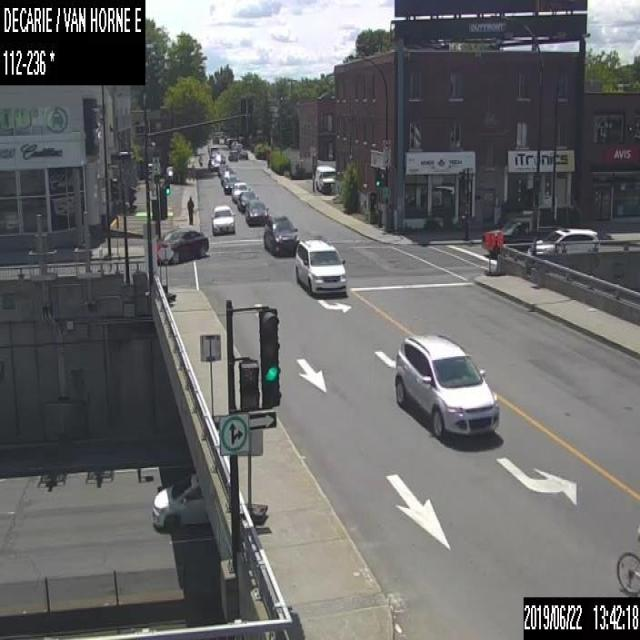construction: (242, 426, 268, 524), (200, 333, 224, 426), (156, 239, 175, 303), (494, 231, 504, 274), (484, 232, 494, 275)
cyclist: (616, 550, 639, 594)
pedestrian: (186, 193, 193, 224)
vehicle: (391, 331, 500, 438), (150, 471, 211, 532), (481, 213, 560, 256), (294, 239, 346, 296), (526, 226, 599, 255), (155, 227, 207, 264), (264, 215, 298, 255), (210, 203, 235, 233), (314, 165, 335, 192), (245, 200, 268, 224), (236, 190, 258, 212), (231, 182, 250, 202), (222, 174, 240, 193), (220, 167, 236, 184), (208, 156, 220, 170), (217, 163, 228, 176), (228, 150, 238, 160), (238, 150, 247, 158), (529, 213, 530, 215)
